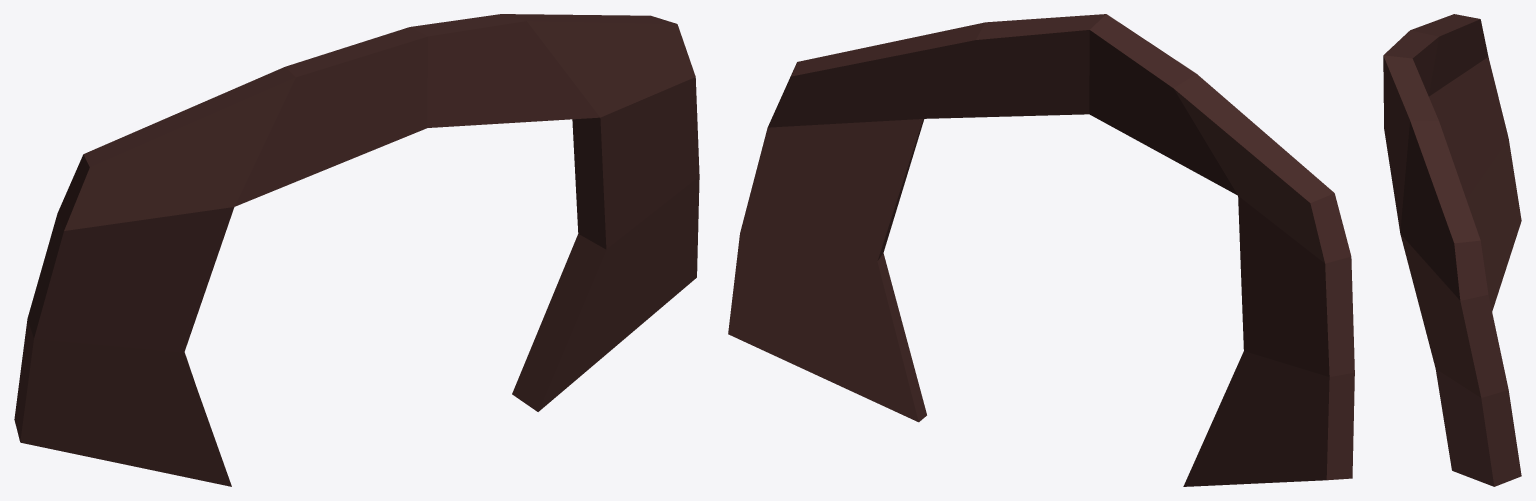
The model's file is moustache.fbx.
The picture shows the model from 3 angles, left to right: view 1: azimuth 30°, elevation 25°; view 2: azimuth 150°, elevation 25°; view 3: azimuth 270°, elevation 25°; orthographic projection. The views are drawn at different scales.
Parts seen in each view (by area): view 1: moustache; view 2: moustache; view 3: moustache.
Boxes of the visible parts, x1,y1,x2,y2 form: moustache: (14,14,699,486); moustache: (728,14,1354,486); moustache: (1383,14,1521,486).
Size of the model in its own units: 18.44 by 11.58 by 4.08.
